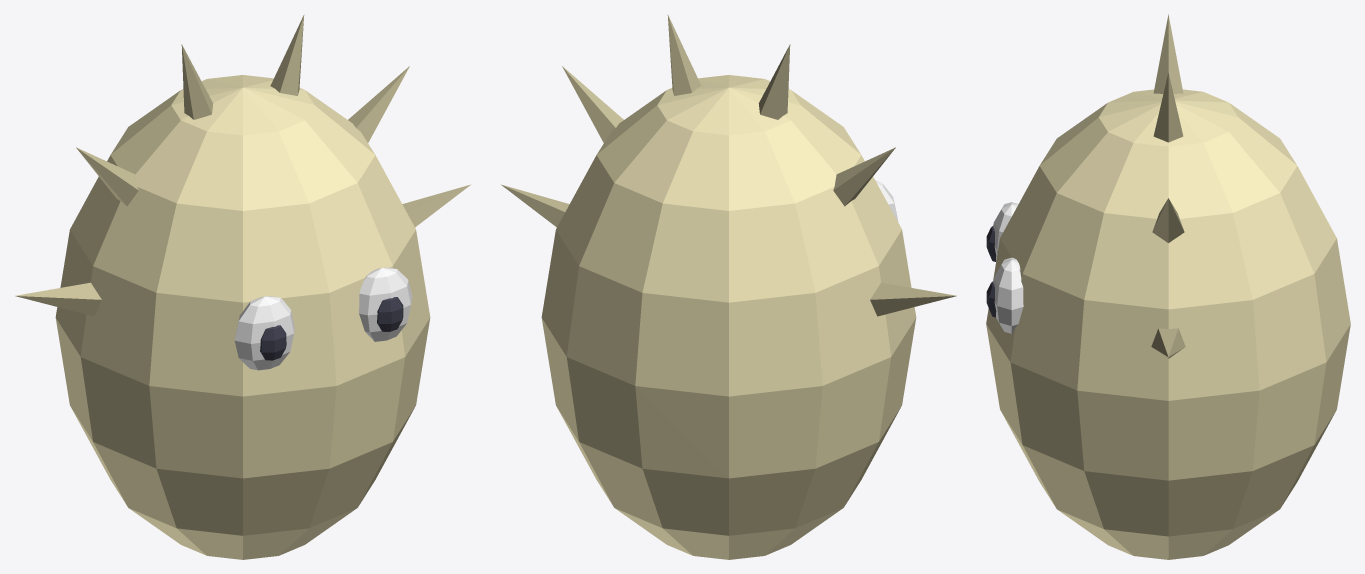
File: hopiumoth.glb
The picture shows the model from 3 angles, left to right: view 1: azimuth 30°, elevation 25°; view 2: azimuth 150°, elevation 25°; view 3: azimuth 270°, elevation 25°; orthographic projection. The views are drawn at different scales.
Visible parts, largest first — view 1: hopiumoth; view 2: hopiumoth; view 3: hopiumoth.
Boxes of the visible parts, box(x1,y1,x2,y2) form: hopiumoth: box(15, 14, 470, 559); hopiumoth: box(501, 14, 956, 559); hopiumoth: box(986, 14, 1350, 559).
Size of the model in its own units: 1.56 by 1.69 by 1.11.
